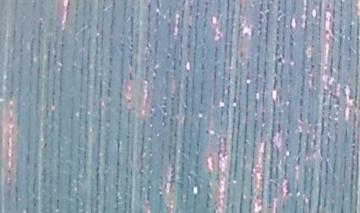tarspot: (273, 51, 285, 67)
